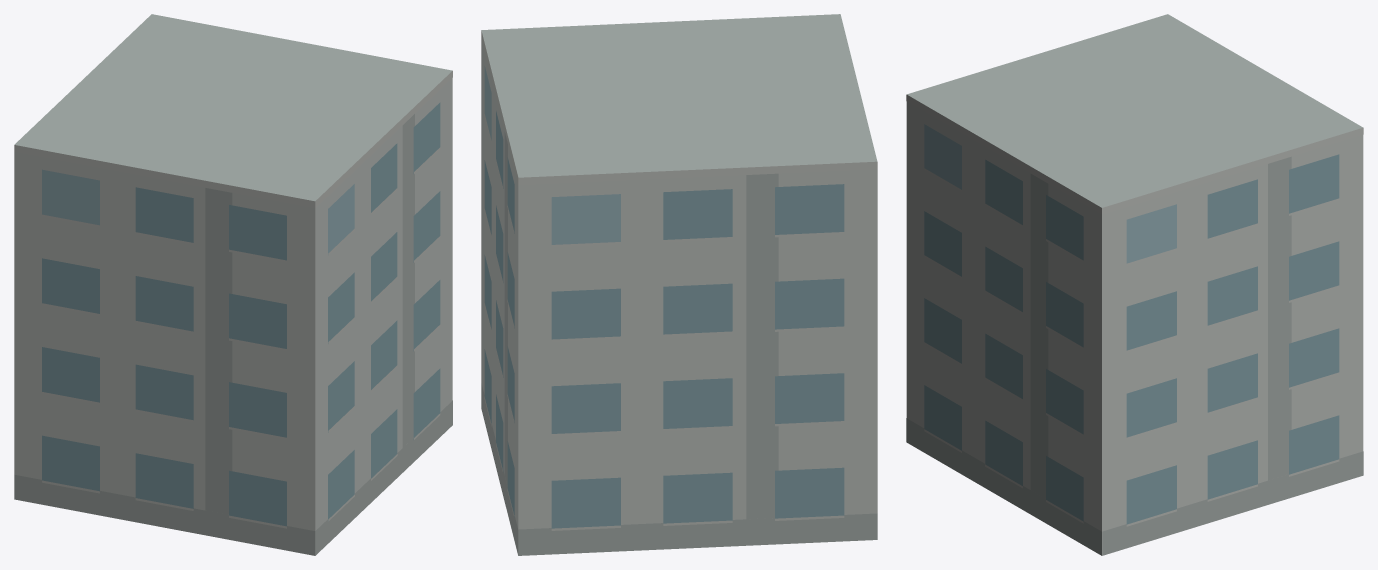
The model's file is residential-11a716e0-e793-4e74-bb9f-34cf73836687.glb.
3 renders of one model, left to right at view 1: azimuth 30°, elevation 25°; view 2: azimuth 150°, elevation 25°; view 3: azimuth 270°, elevation 25°, orthographic. The views are drawn at different scales.
Visible parts, largest first — view 1: residential-11a716e0-e793-4e74-bb9f-34cf73836687.tmp; view 2: residential-11a716e0-e793-4e74-bb9f-34cf73836687.tmp; view 3: residential-11a716e0-e793-4e74-bb9f-34cf73836687.tmp.
Part boxes in pixels (x1=…): residential-11a716e0-e793-4e74-bb9f-34cf73836687.tmp: x1=14, y1=14, x2=452, y2=555; residential-11a716e0-e793-4e74-bb9f-34cf73836687.tmp: x1=481, y1=14, x2=877, y2=555; residential-11a716e0-e793-4e74-bb9f-34cf73836687.tmp: x1=906, y1=14, x2=1363, y2=555.
Bounding box in the file's own units: 14.59 × 12.2 × 14.53.
